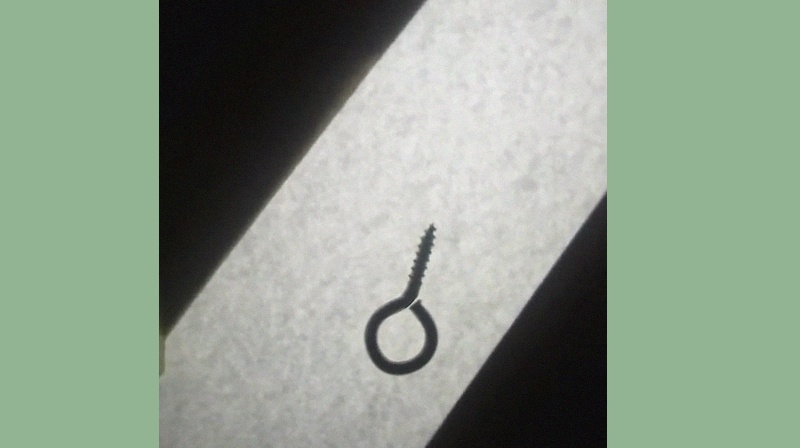O001: (359, 221, 439, 379)
